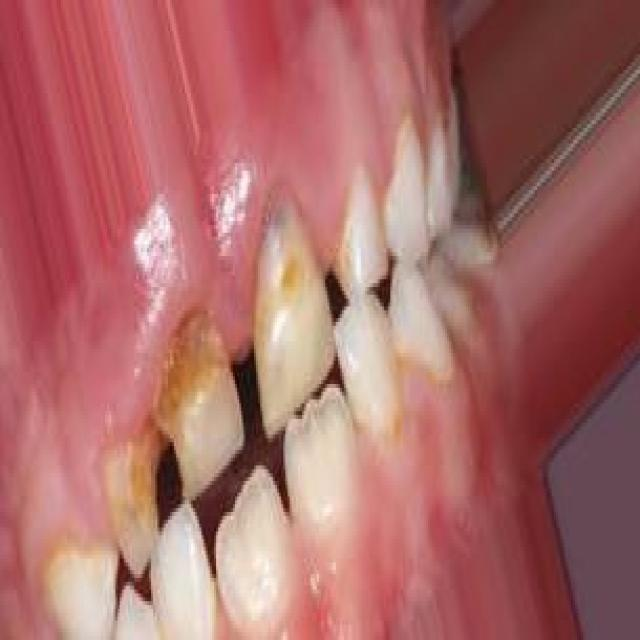caries: (157, 311, 240, 481), (111, 417, 161, 572)
